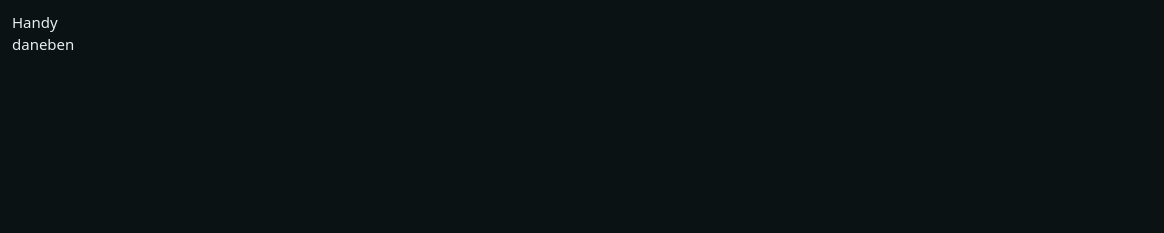
Test: Menu › schließt mit Escape und beim Klick daneben
This screenshot has width=1164, height=233.
Click the button "Handy".
click(35, 23)  # box [12,12,58,34]
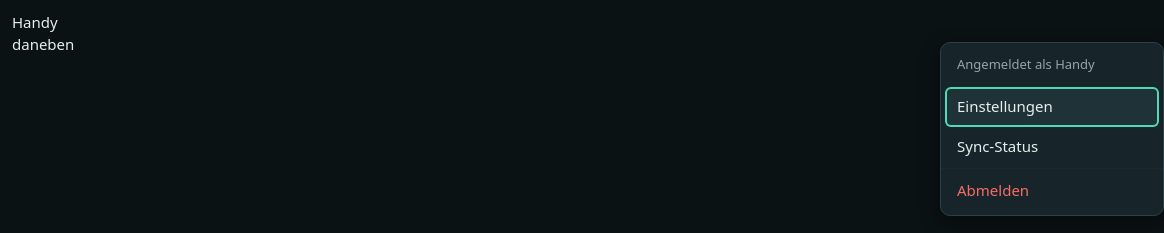
Press Escape
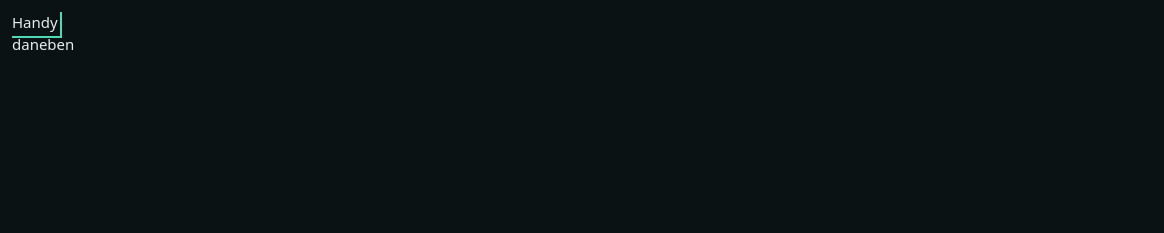
Expected: the menu is gone
Click the button "Handy".
click(35, 23)  # box [12,12,58,34]
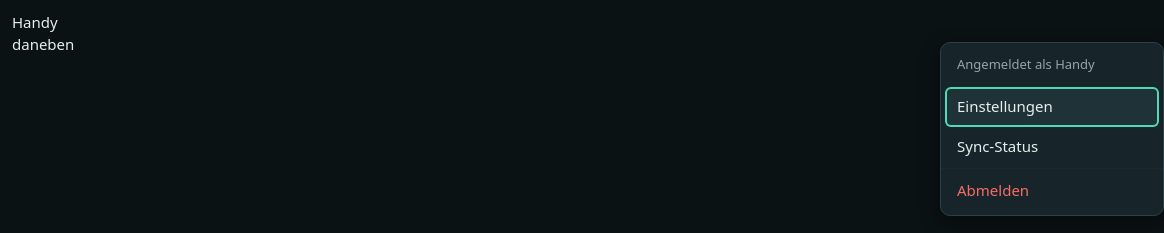
Expected: the menu is shown, [940,42,1163,216]
Click the text "daneben".
click(43, 44)  # box [12,34,74,54]
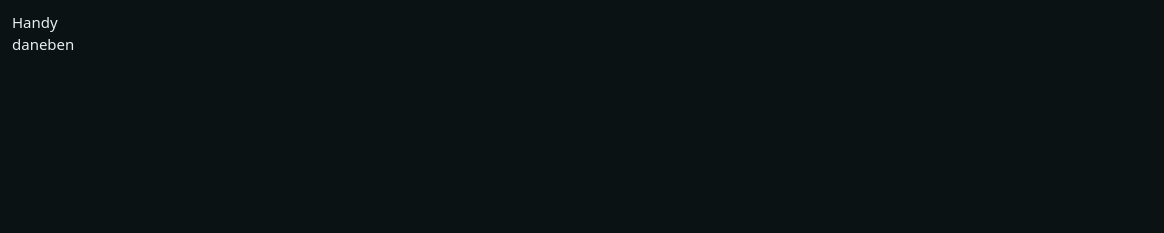
Expected: the menu is gone
